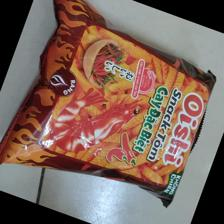Oishi_Cay: (1, 1, 219, 208)
